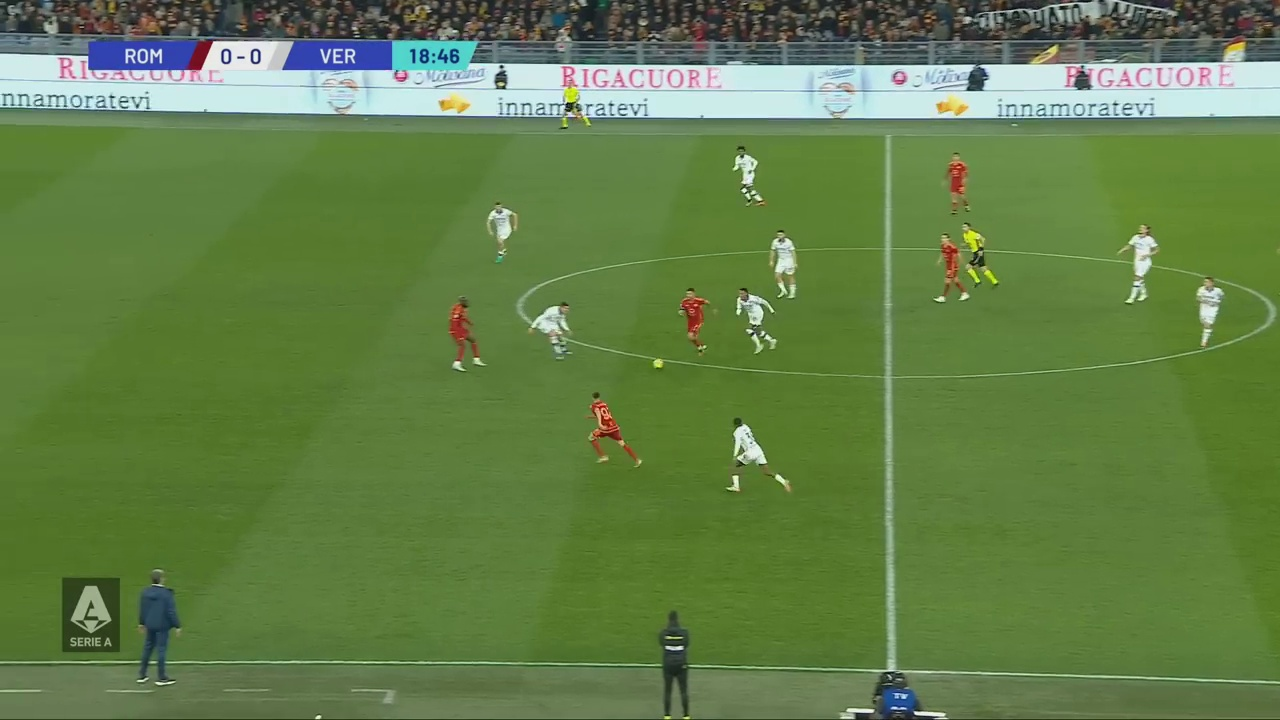ball: (645, 393, 673, 422)
